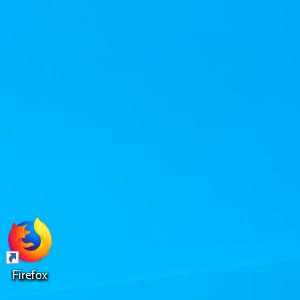firefox: (6, 216, 52, 264)
